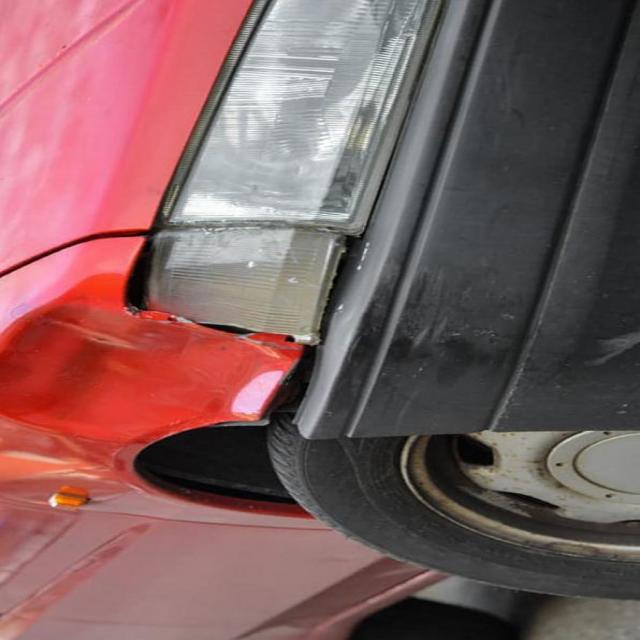dent: (0, 266, 383, 503)
